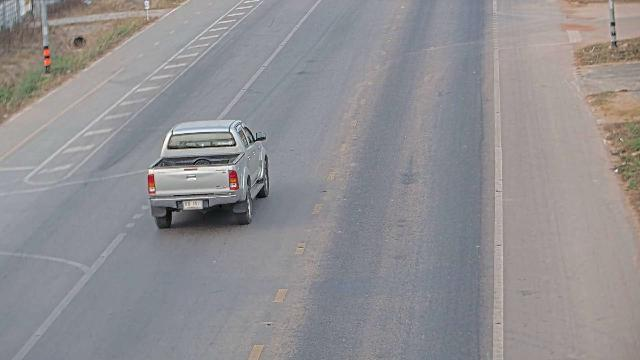pickup-truck: (146, 118, 270, 229)
